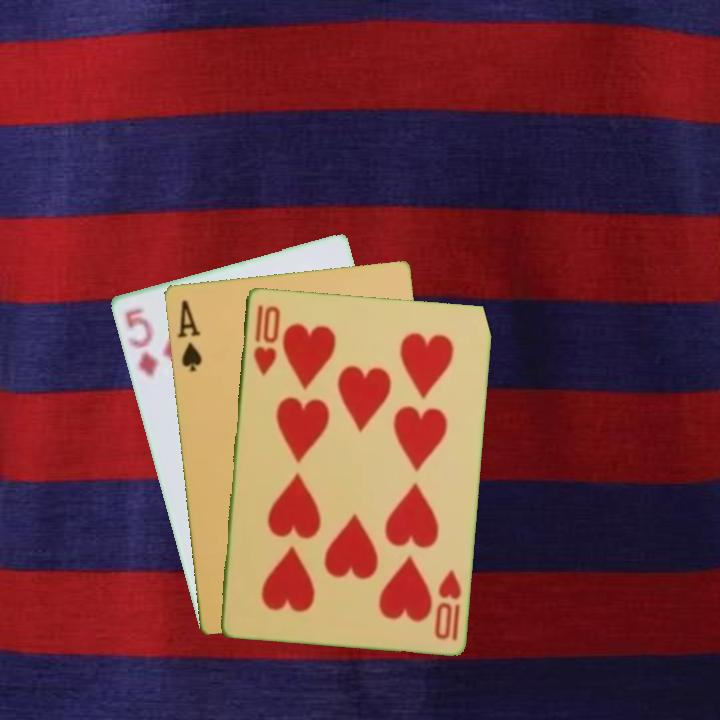10h: (430, 565, 464, 643), (249, 301, 283, 378)
5d: (121, 304, 161, 379)
As: (173, 296, 205, 374)
